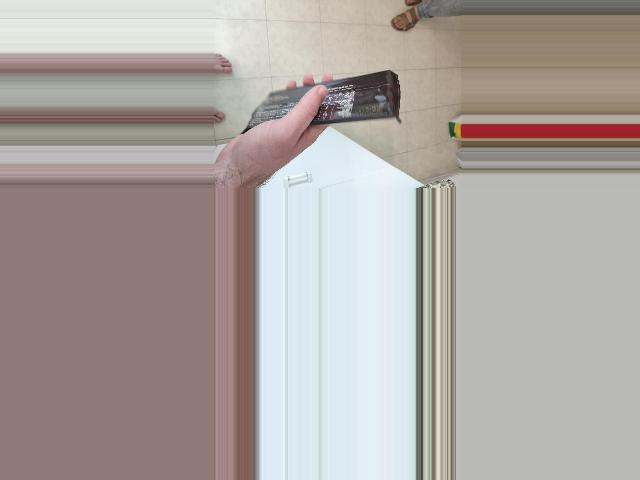chocolate: (233, 70, 401, 132)
